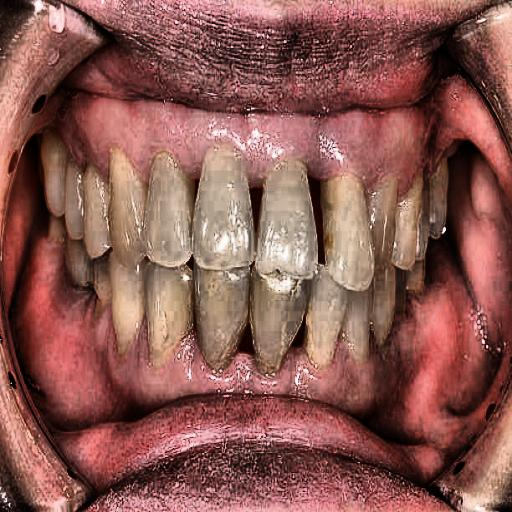Gingivitis: (50, 78, 443, 185)
